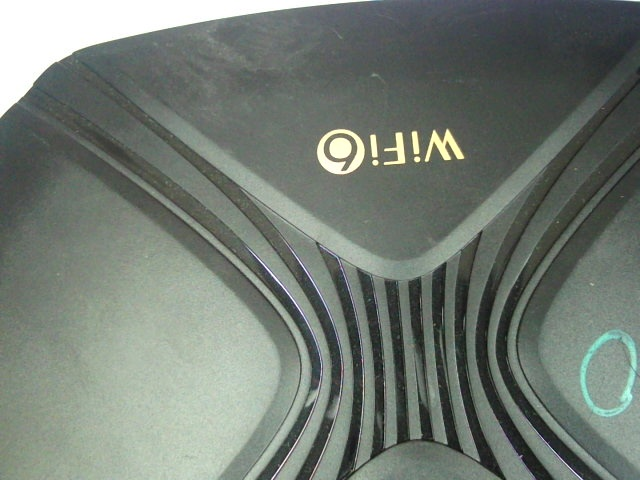AK_ZTEWIFI6Black: (313, 122, 473, 179)
